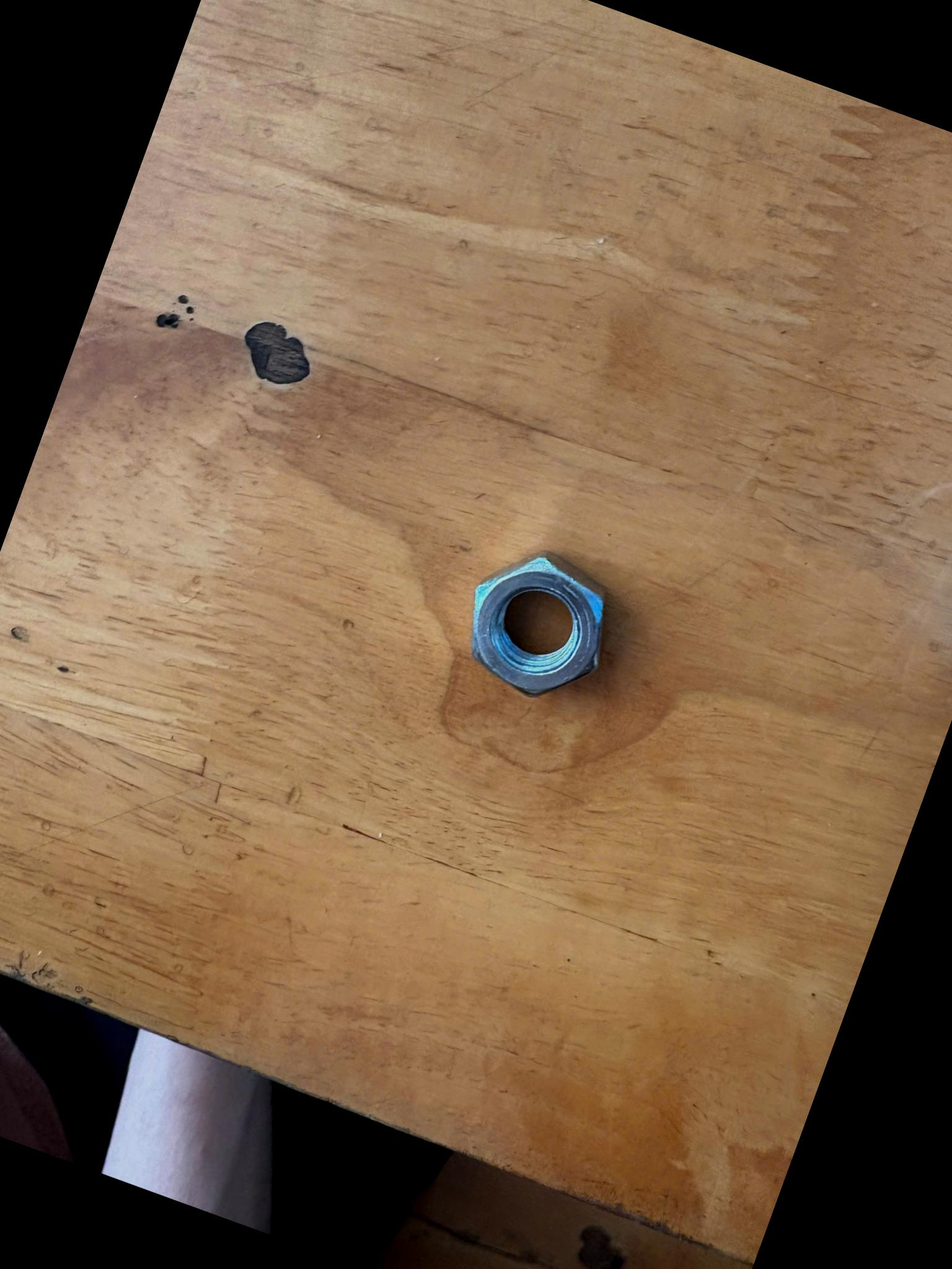nut: (405, 516, 643, 738)
